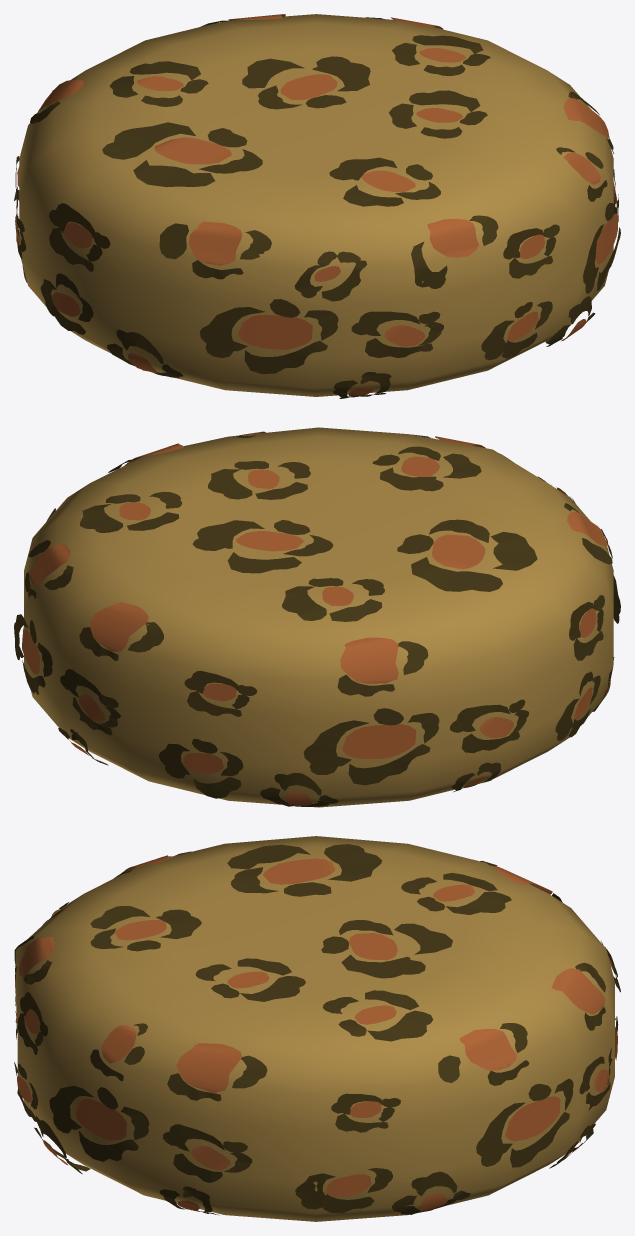
Rendered from PillboxHat.fbx.
3 renders of one model, top to bottom at view 1: azimuth 30°, elevation 25°; view 2: azimuth 150°, elevation 25°; view 3: azimuth 270°, elevation 25°, orthographic.
Visible parts, largest first — view 1: PillboxHat; view 2: PillboxHat; view 3: PillboxHat.
Part boxes in pixels (box(x1,y1,x2,y2)): PillboxHat: box(14, 14, 620, 398); PillboxHat: box(14, 427, 620, 807); PillboxHat: box(14, 836, 620, 1221).
Size of the model in its own units: 82.5 by 26.33 by 82.12.
